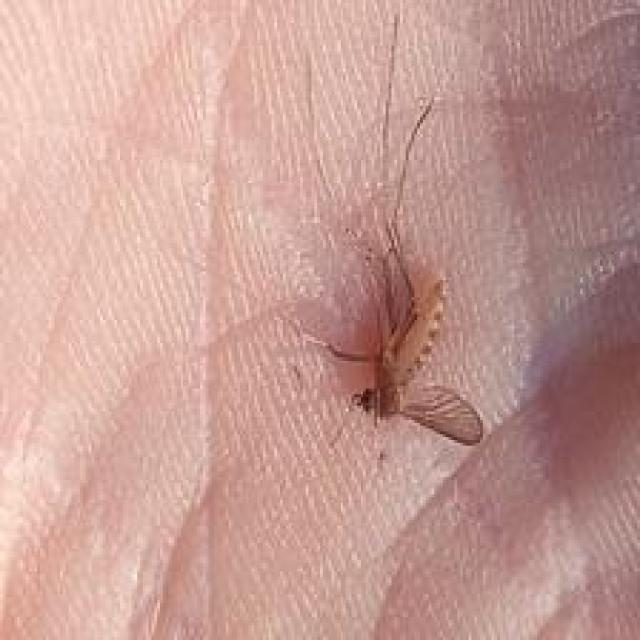Culex: (303, 97, 486, 452)
